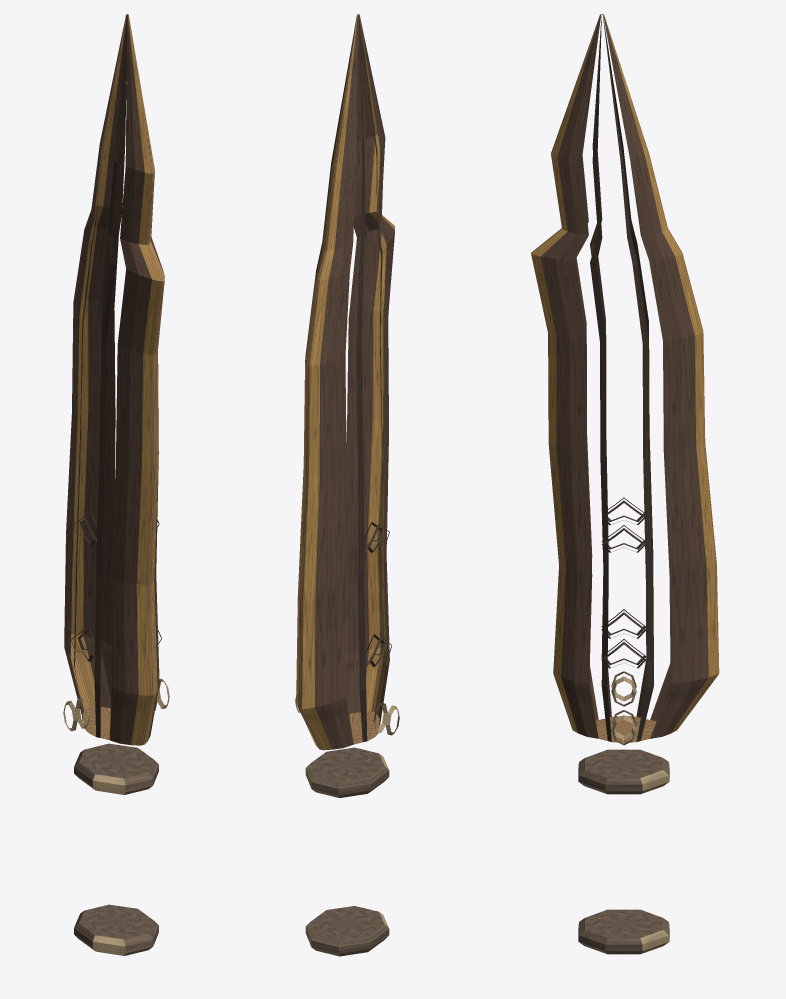
File: primordial_companion_sword.obj
3 views of the same model, side by side, from view 1: azimuth 30°, elevation 25°; view 2: azimuth 150°, elevation 25°; view 3: azimuth 270°, elevation 25° (orthographic).
Parts seen in each view (by area): view 1: geometry; view 2: geometry; view 3: geometry.
Part boxes in pixels (left/top/right/bottom): geometry: left=63, top=14, right=169, bottom=955; geometry: left=295, top=14, right=399, bottom=956; geometry: left=531, top=14, right=719, bottom=954.
Size of the model in its own units: 0.1181 by 1.13 by 0.3162.
